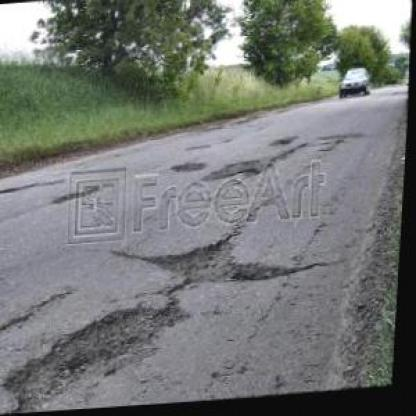pothole: (0, 298, 196, 413), (143, 234, 298, 292), (202, 159, 272, 186), (171, 161, 208, 173)
